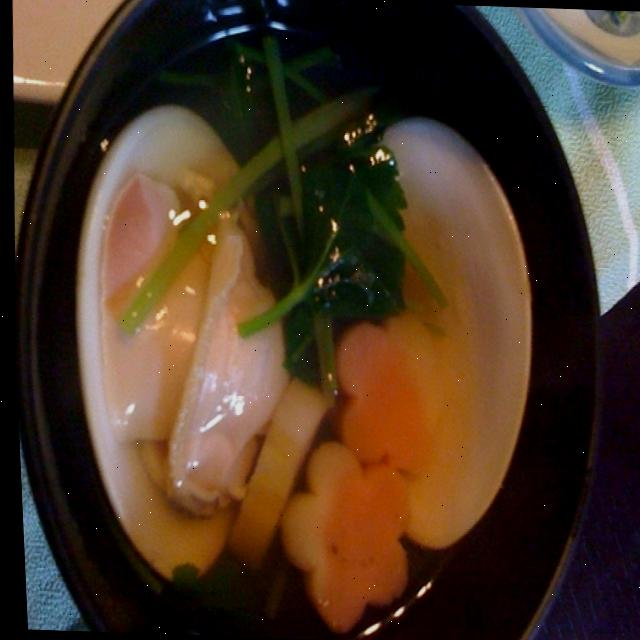汤锅炖物: (6, 1, 600, 640)
